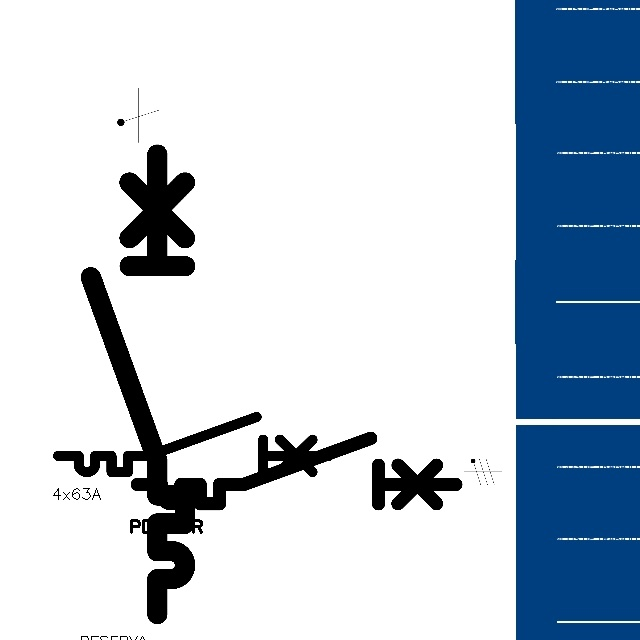interruptor_termomagnetico: (79, 142, 197, 625), (129, 430, 464, 512), (51, 410, 336, 479)
